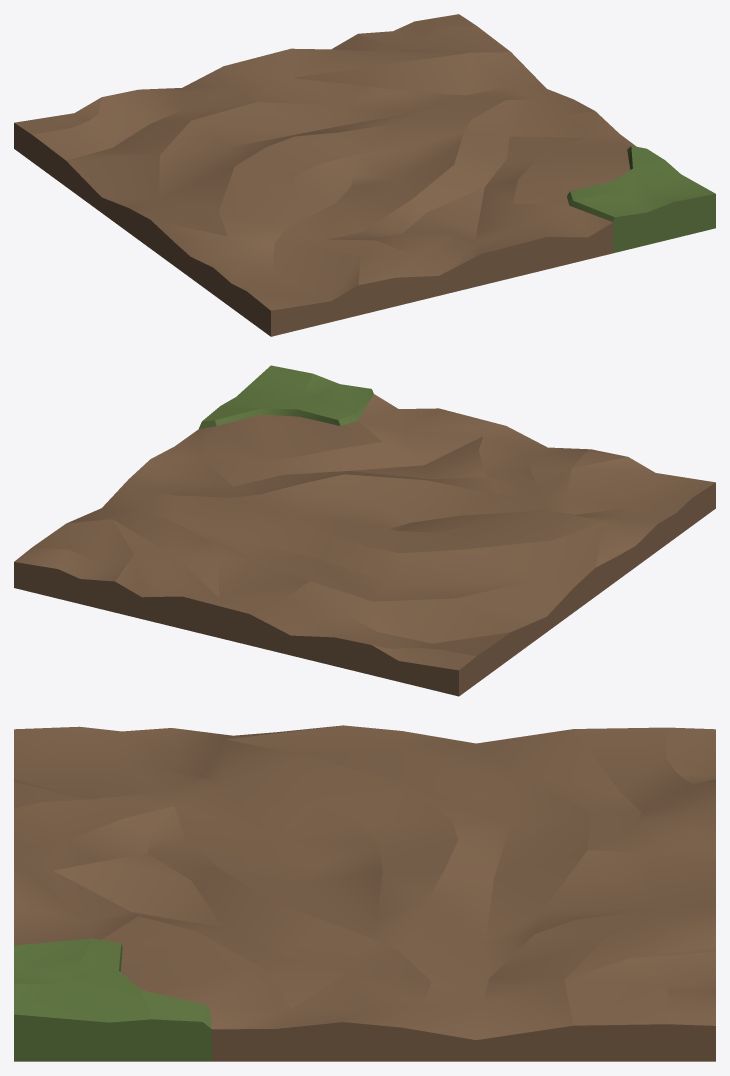
Rendered from Ground_Corner_External_RB.glb.
3 renders of one model, top to bottom at view 1: azimuth 30°, elevation 25°; view 2: azimuth 150°, elevation 25°; view 3: azimuth 270°, elevation 25°, orthographic. The views are drawn at different scales.
Visible parts, largest first — view 1: Ground_Corner_External_RB; view 2: Ground_Corner_External_RB; view 3: Ground_Corner_External_RB.
Boxes of the visible parts, x1=… form: Ground_Corner_External_RB: x1=14, y1=14, x2=715, y2=336; Ground_Corner_External_RB: x1=14, y1=365, x2=715, y2=696; Ground_Corner_External_RB: x1=14, y1=725, x2=715, y2=1061.
Bounding box in the file's own units: 1.47 × 0.1218 × 1.47.
